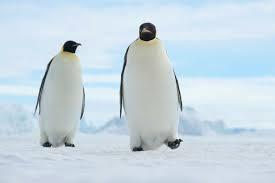emporer: (121, 20, 191, 151), (28, 35, 99, 146)
